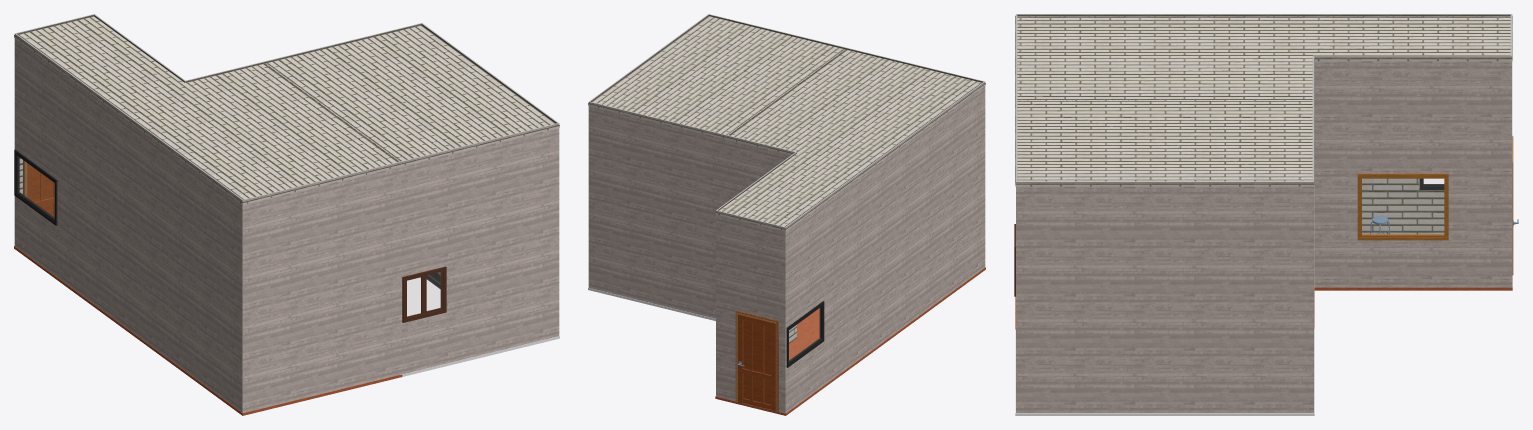
Rendered from ProcTHOR-Train-111.glb.
The picture shows the model from 3 angles, left to right: view 1: azimuth 30°, elevation 25°; view 2: azimuth 150°, elevation 25°; view 3: azimuth 270°, elevation 25°; orthographic projection. The views are drawn at different scales.
Visible parts, largest first — view 1: WallInside#wall|exterior|6.64|0.00|6.64|8.30, WallInside#wall|exterior|3.32|8.30|6.64|8.30, WallInside#wall|exterior|0.00|8.30|3.32|8.30, Ceiling#room|2|c, Ceiling#room|3|c, Floor#room|3|f, Floor#room|2|f, Window_Slider_36x36, Doorway_10, Window_Fixed_60x36; view 2: WallInside#wall|exterior|6.64|0.00|6.64|8.30, WallInside#wall|exterior|0.00|3.32|3.32|3.32, Ceiling#room|2|c, Ceiling#room|3|c, WallInside#wall|exterior|4.98|0.00|6.64|0.00, Doorway_10, WallInside#wall|exterior|3.32|3.32|4.98|3.32, Floor#room|2|f, Window_Fixed_60x36, Floor#room|3|f; view 3: WallInside#wall|exterior|0.00|3.32|0.00|8.30, WallInside#wall|exterior|4.98|0.00|4.98|3.32, Ceiling#room|2|c, Ceiling#room|3|c, WallInside#wall|2|6.64|0.00|6.64|8.30, Window_Fixed_60x48, Floor#room|3|f, Floor#room|2|f, WallInside#wall|exterior|6.64|0.00|6.64|8.30.
Boxes of the visible parts, x1=… form: WallInside#wall|exterior|6.64|0.00|6.64|8.30: x1=14, y1=33, x2=242, y2=412; WallInside#wall|exterior|3.32|8.30|6.64|8.30: x1=243, y1=162, x2=401, y2=412; WallInside#wall|exterior|0.00|8.30|3.32|8.30: x1=400, y1=123, x2=559, y2=374; Ceiling#room|2|c: x1=14, y1=16, x2=402, y2=204; Ceiling#room|3|c: x1=264, y1=25, x2=559, y2=165; Floor#room|3|f: x1=400, y1=277, x2=559, y2=376; Floor#room|2|f: x1=14, y1=246, x2=402, y2=415; Window_Slider_36x36: x1=402, y1=266, x2=446, y2=322; Doorway_10: x1=23, y1=160, x2=54, y2=217; Window_Fixed_60x36: x1=14, y1=149, x2=57, y2=225; WallInside#wall|exterior|6.64|0.00|6.64|8.30: x1=785, y1=82, x2=985, y2=413; WallInside#wall|exterior|0.00|3.32|3.32|3.32: x1=588, y1=102, x2=727, y2=318; Ceiling#room|2|c: x1=715, y1=49, x2=985, y2=231; Ceiling#room|3|c: x1=588, y1=16, x2=846, y2=139; WallInside#wall|exterior|4.98|0.00|6.64|0.00: x1=716, y1=210, x2=785, y2=413; Doorway_10: x1=735, y1=310, x2=778, y2=412; WallInside#wall|exterior|3.32|3.32|4.98|3.32: x1=726, y1=135, x2=795, y2=201; Floor#room|2|f: x1=715, y1=267, x2=985, y2=415; Window_Fixed_60x36: x1=786, y1=301, x2=824, y2=367; Floor#room|3|f: x1=588, y1=287, x2=715, y2=320; WallInside#wall|exterior|0.00|3.32|0.00|8.30: x1=1016, y1=181, x2=1313, y2=412; WallInside#wall|exterior|4.98|0.00|4.98|3.32: x1=1313, y1=56, x2=1511, y2=287; Ceiling#room|2|c: x1=1015, y1=15, x2=1512, y2=100; Ceiling#room|3|c: x1=1015, y1=99, x2=1314, y2=186; WallInside#wall|2|6.64|0.00|6.64|8.30: x1=1016, y1=14, x2=1511, y2=234; Window_Fixed_60x48: x1=1357, y1=173, x2=1448, y2=240; Floor#room|3|f: x1=1015, y1=329, x2=1314, y2=415; Floor#room|2|f: x1=1015, y1=276, x2=1512, y2=329; WallInside#wall|exterior|6.64|0.00|6.64|8.30: x1=1017, y1=14, x2=1510, y2=14.
Size of what is drawn, in the model's own units: 6.7 by 4.33 by 8.46.
Materials: 128 (63 with a texture image).
